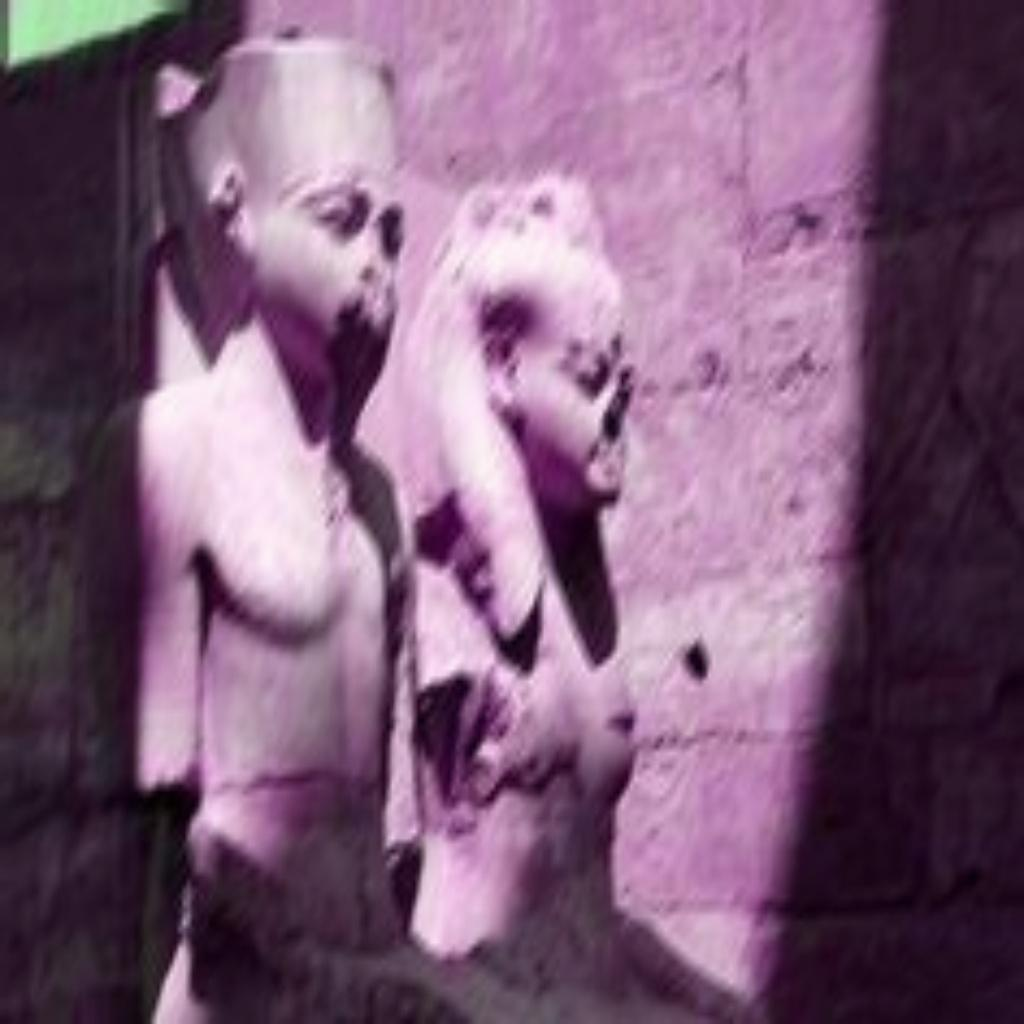Statue of Ankhesenamun: (402, 173, 766, 1024)
Statue of Tutankhamun: (74, 29, 421, 1024)
